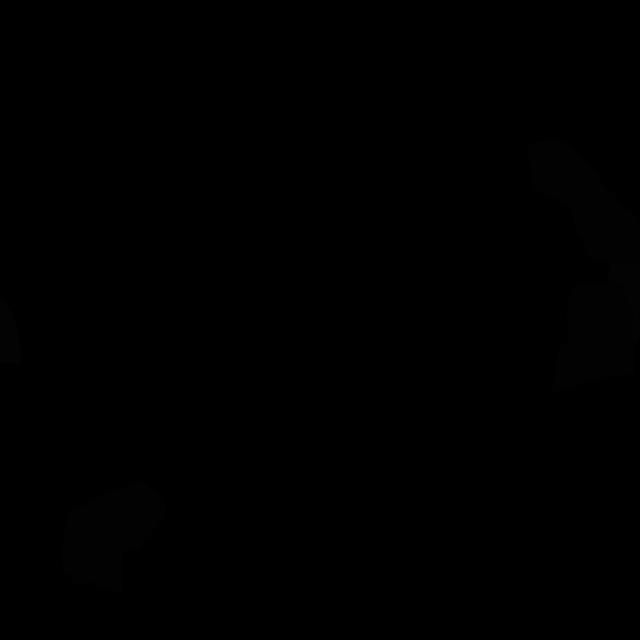cardboard: (526, 140, 640, 265), (62, 480, 166, 593), (552, 282, 634, 393)
metal: (608, 261, 640, 343), (0, 295, 22, 364)
